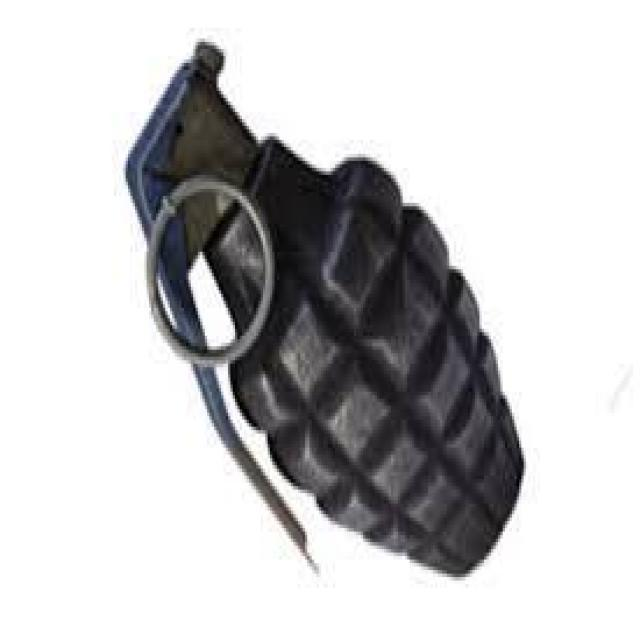Grenade: (119, 38, 526, 580)
